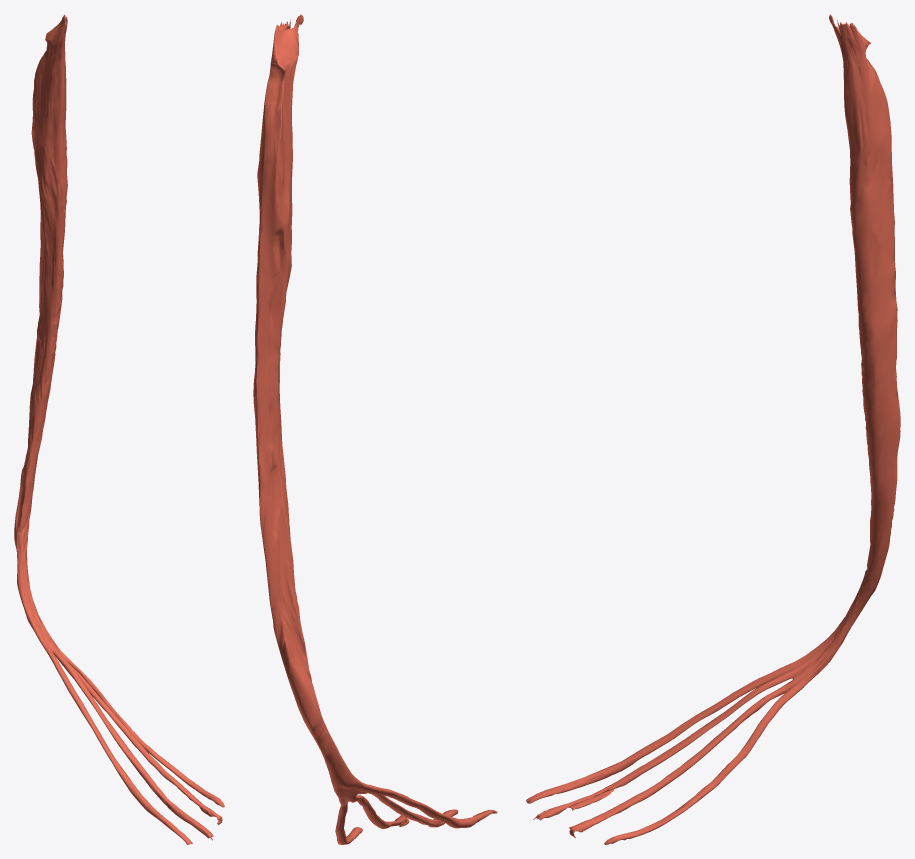
Rendered from extensor-digitorum-longus.glb.
3 views of the same model, side by side, from view 1: azimuth 30°, elevation 25°; view 2: azimuth 150°, elevation 25°; view 3: azimuth 270°, elevation 25° (orthographic). The views are drawn at different scales.
Visible parts, largest first — view 1: Extensor digitorum longus.l; view 2: Extensor digitorum longus.l; view 3: Extensor digitorum longus.l.
Boxes of the visible parts, box(x1,y1,x2,y2) form: Extensor digitorum longus.l: box(14, 15, 224, 844); Extensor digitorum longus.l: box(253, 14, 497, 844); Extensor digitorum longus.l: box(526, 14, 900, 844).
Size of the model in its own units: 0.0568 by 0.4066 by 0.1718.
